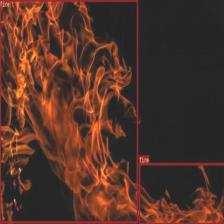fire: (0, 0, 138, 223), (138, 163, 224, 224)
